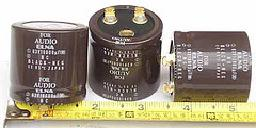Electrolytic-Capacitor: (86, 3, 162, 101), (9, 20, 90, 104), (162, 30, 253, 104)
